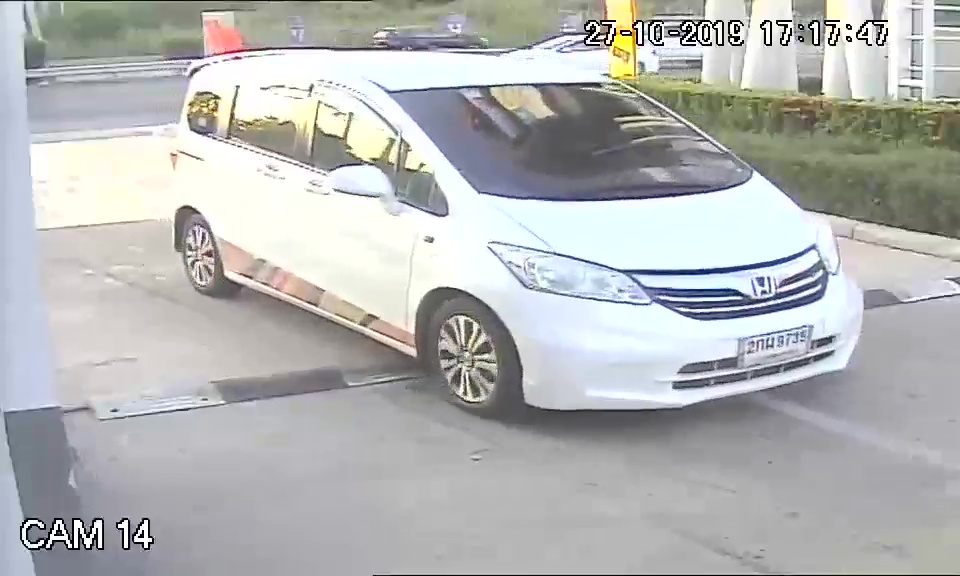van: (168, 46, 871, 421)
